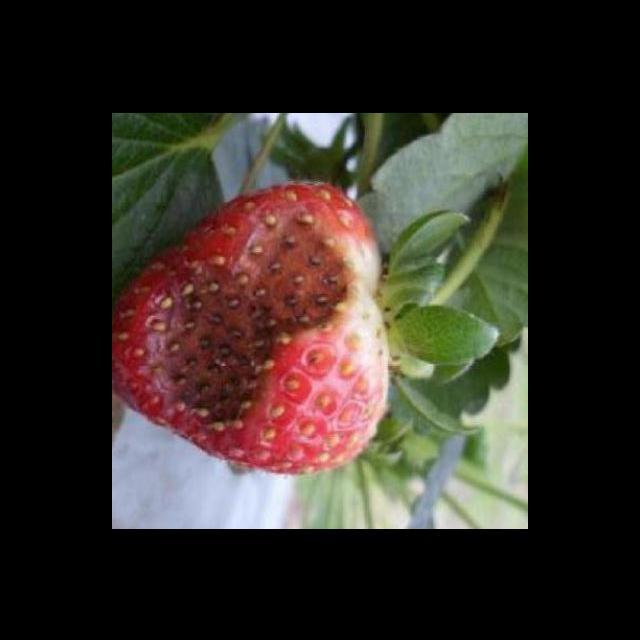Anthracnose Fruit Rot: (140, 195, 357, 442)
